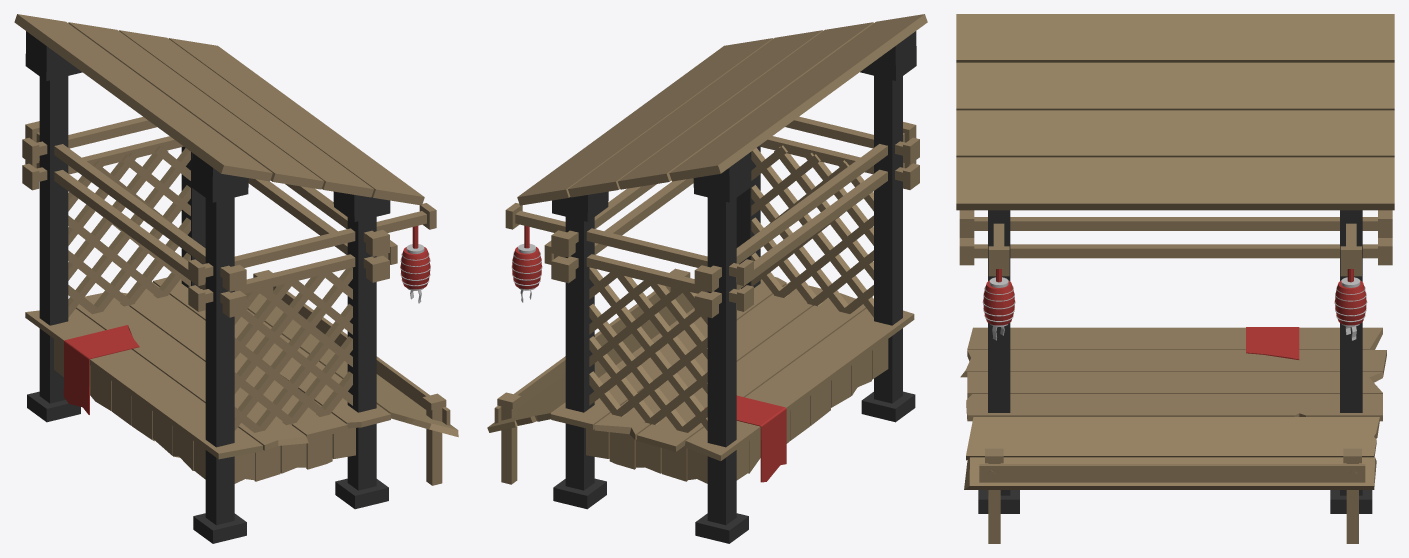
File: AsiaTezgah2.fbx
3 views of the same model, side by side, from view 1: azimuth 30°, elevation 25°; view 2: azimuth 150°, elevation 25°; view 3: azimuth 270°, elevation 25° (orthographic). The views are drawn at different scales.
Visible parts, largest first — view 1: Cube.011; view 2: Cube.011; view 3: Cube.011.
Boxes of the visible parts, x1,y1,x2,y2 form: Cube.011: [14, 14, 458, 543]; Cube.011: [487, 14, 927, 543]; Cube.011: [956, 14, 1394, 543].
Bounding box in the file's own units: 506 × 744 × 723.
